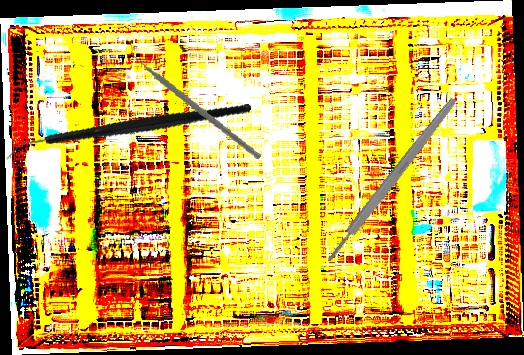Chopper: (4, 60, 252, 204), (118, 40, 273, 160)
Scalpel Handle: (323, 95, 459, 265)
